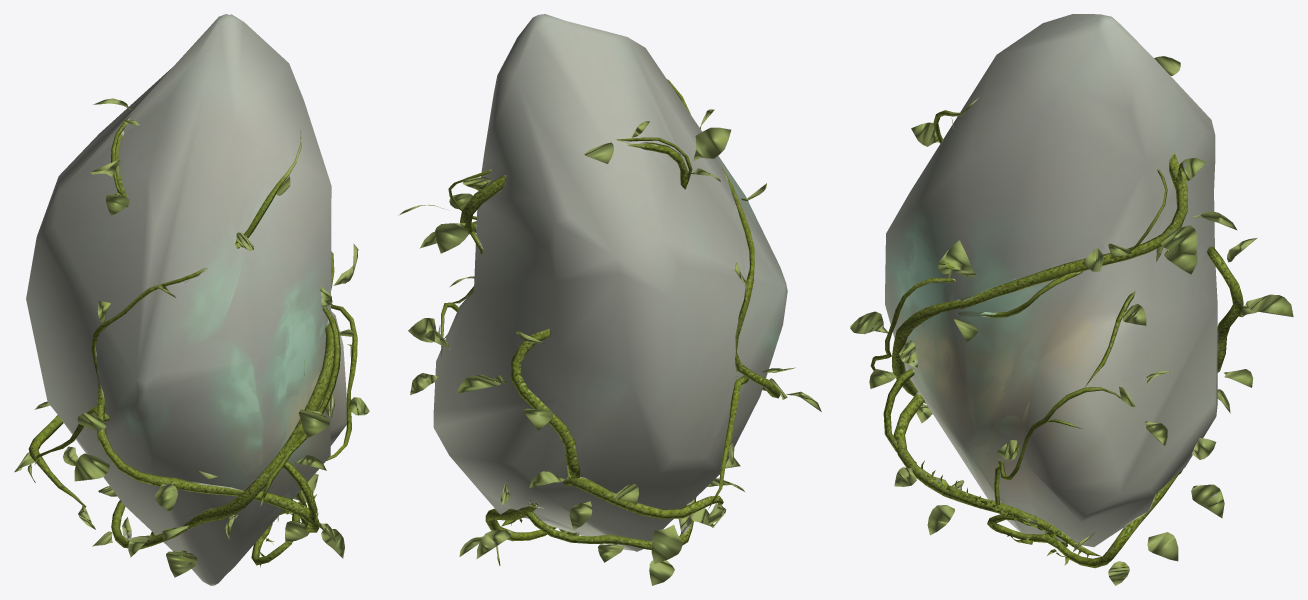
The picture shows the model from 3 angles, left to right: view 1: azimuth 30°, elevation 25°; view 2: azimuth 150°, elevation 25°; view 3: azimuth 270°, elevation 25°; orthographic projection. The views are drawn at different scales.
Visible parts, largest first — view 1: tripo_node_a04dc2a5-f126-44a3-9ae4-7f307e998d58; view 2: tripo_node_a04dc2a5-f126-44a3-9ae4-7f307e998d58; view 3: tripo_node_a04dc2a5-f126-44a3-9ae4-7f307e998d58.
Boxes of the visible parts, x1,y1,x2,y2 form: tripo_node_a04dc2a5-f126-44a3-9ae4-7f307e998d58: [14, 14, 369, 585]; tripo_node_a04dc2a5-f126-44a3-9ae4-7f307e998d58: [398, 14, 821, 585]; tripo_node_a04dc2a5-f126-44a3-9ae4-7f307e998d58: [850, 14, 1293, 585].
Bounding box in the file's own units: 0.6387 × 0.998 × 0.7285.
1 material, 1 textured.
